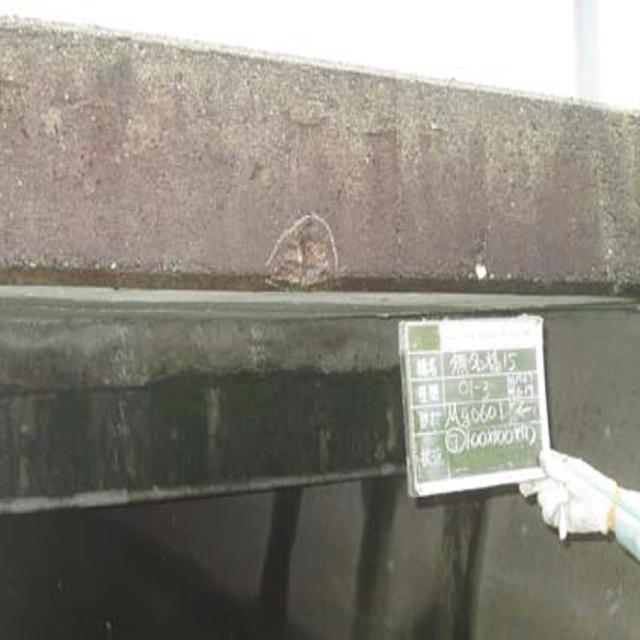spalling: (255, 202, 358, 298)
